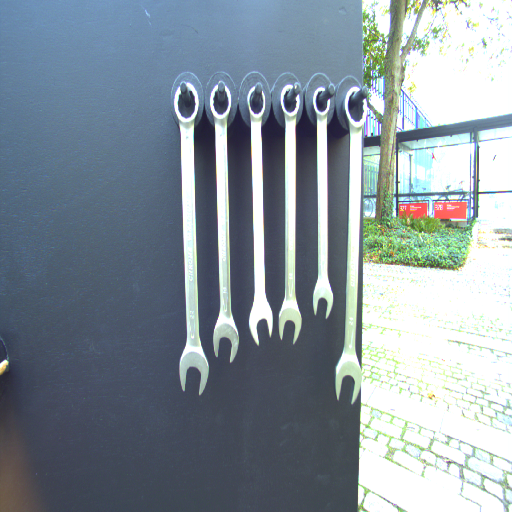bottom: (177, 339, 211, 401), (333, 354, 363, 404), (211, 315, 239, 366), (246, 298, 274, 348), (277, 301, 301, 345), (311, 277, 335, 319)
top: (343, 84, 370, 133), (173, 82, 201, 127), (207, 82, 234, 128), (277, 83, 302, 117), (310, 84, 333, 119), (246, 83, 265, 122)
